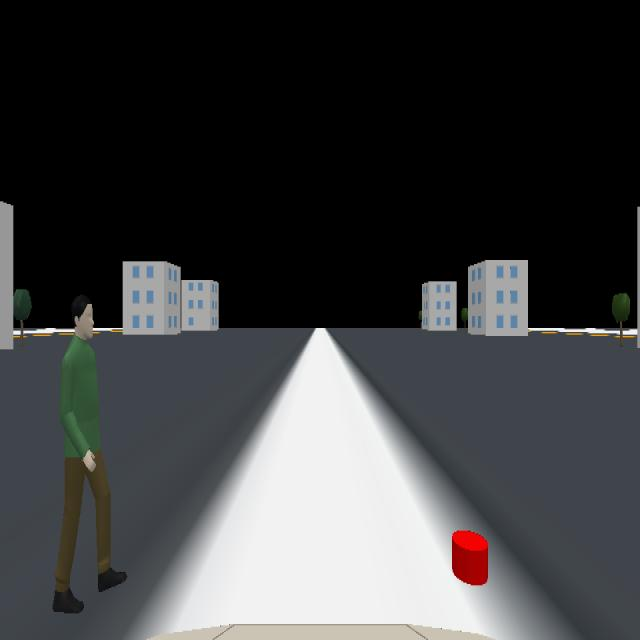human: (52, 293, 127, 615)
